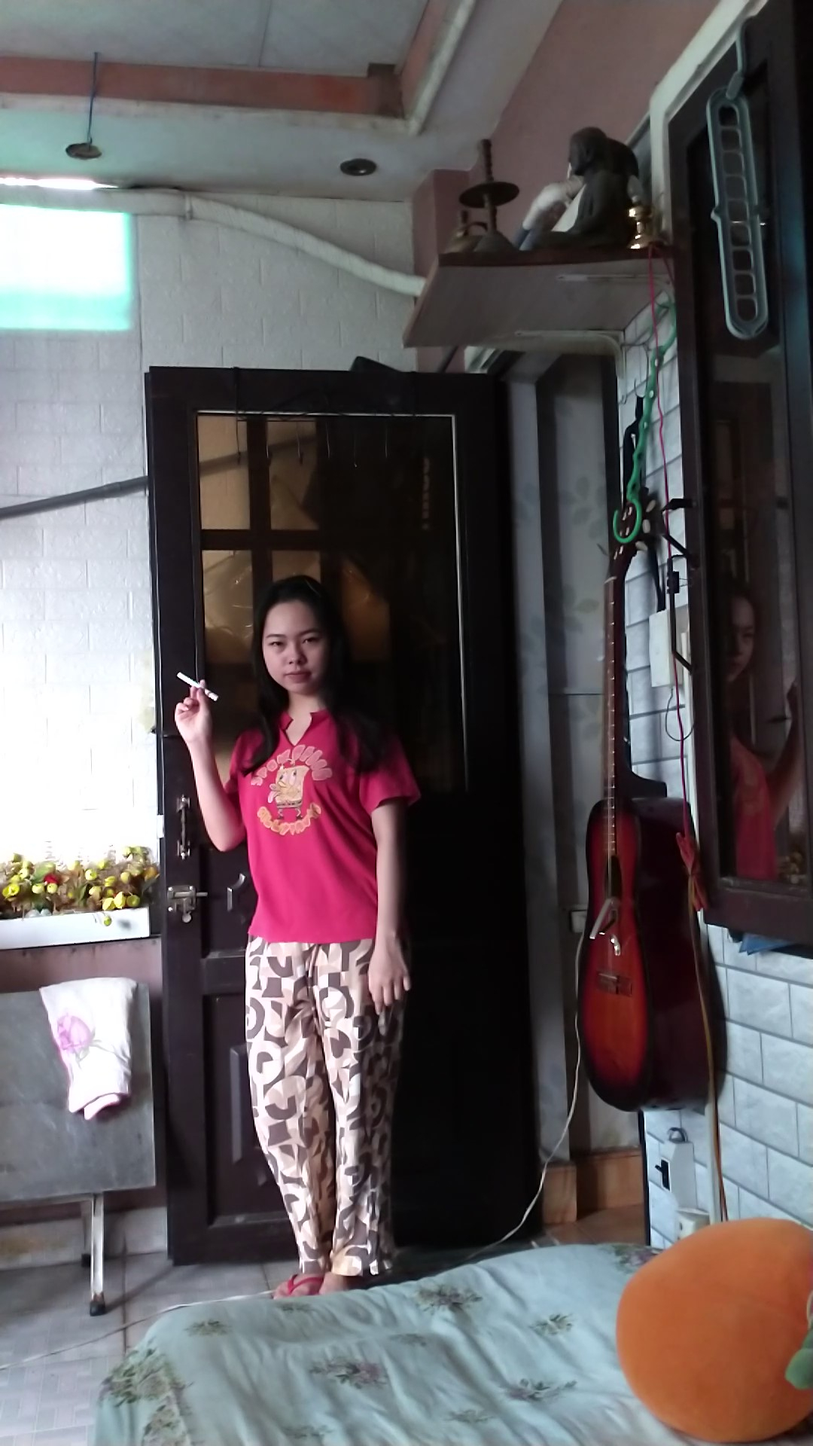cigarette: (174, 667, 201, 690)
person: (174, 551, 420, 1297)
